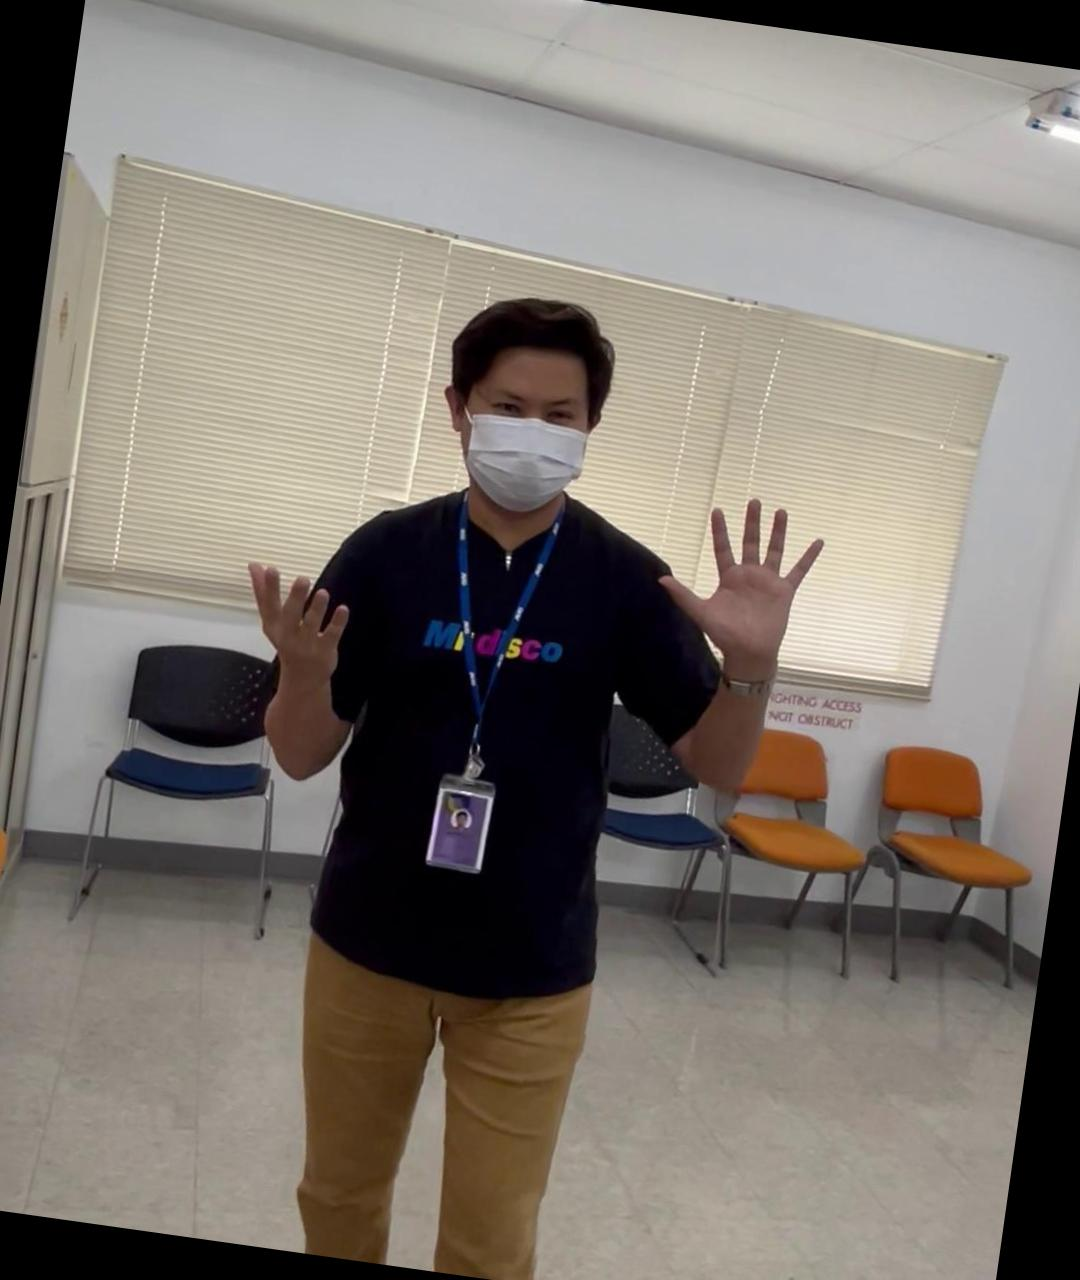No-gloves: (643, 482, 832, 671), (227, 548, 357, 691)
